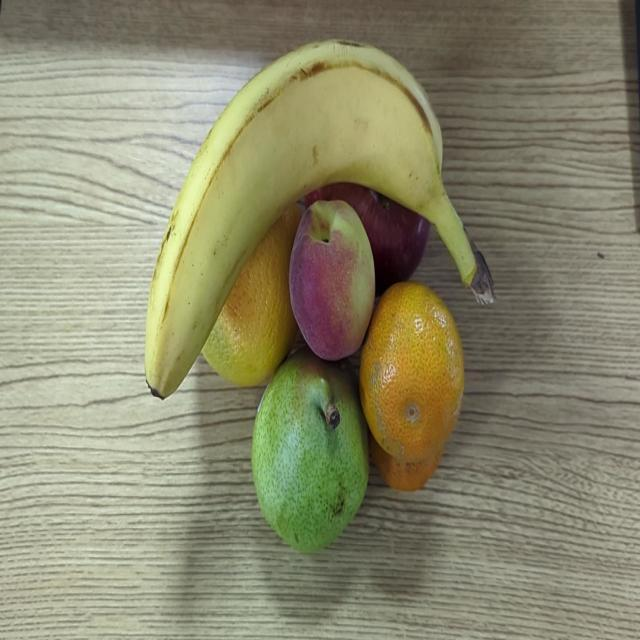Jeruk: (205, 210, 292, 386)
Jeruk Mandarin: (363, 287, 472, 453), (368, 434, 456, 496)
Persik: (292, 202, 372, 364)
Pir: (254, 370, 365, 548)
Pisang: (126, 56, 468, 360)
